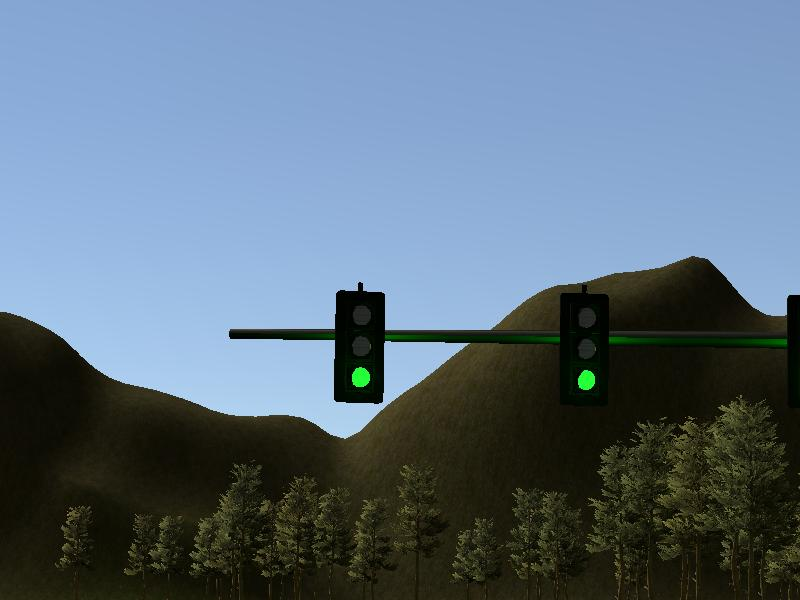Green: (560, 291, 608, 405), (336, 290, 382, 404)
